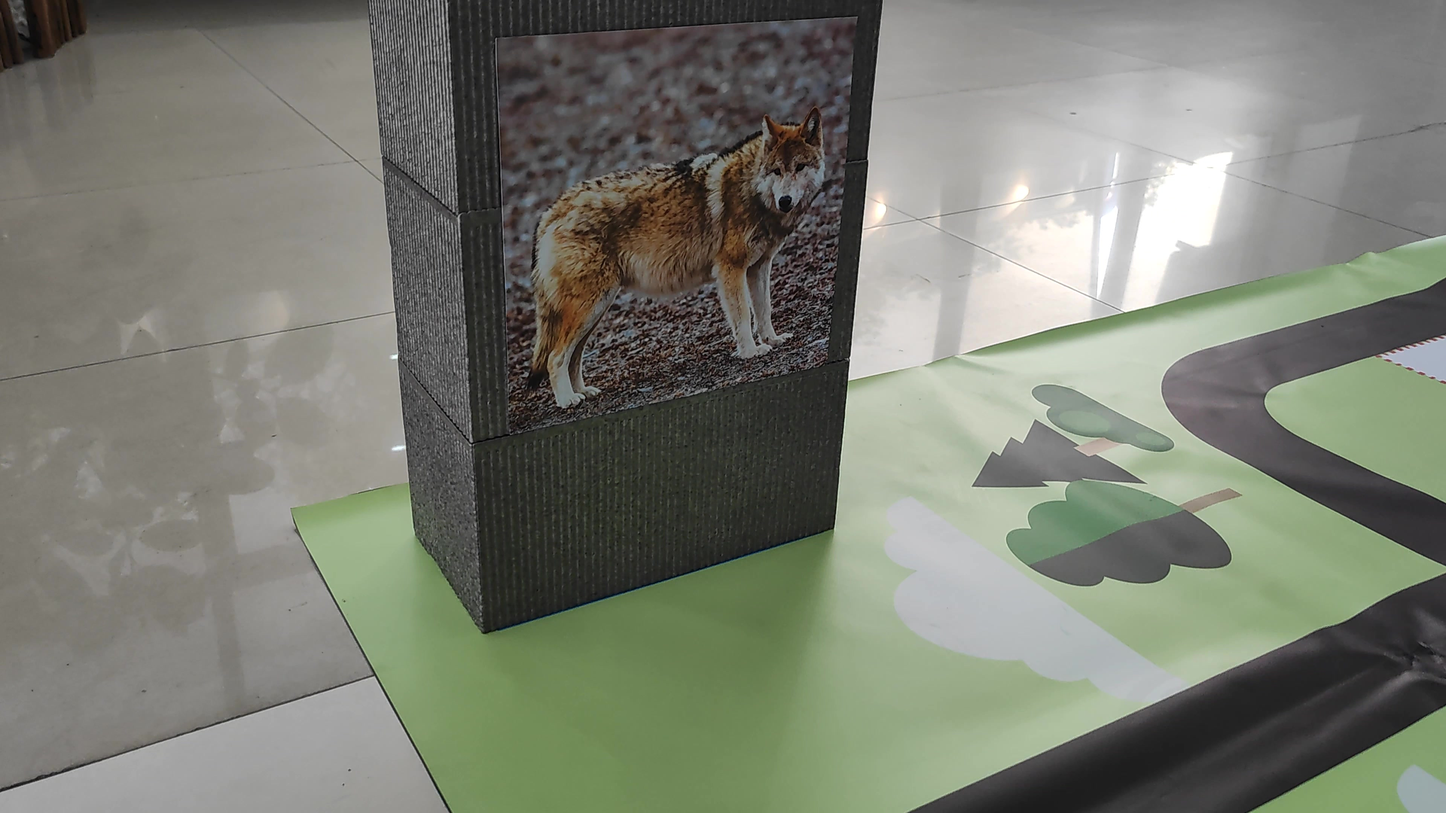wolf: (513, 79, 831, 400)
